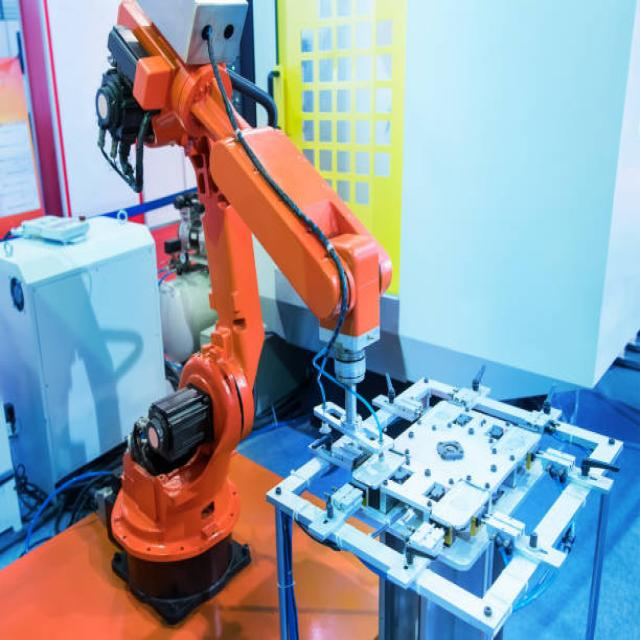Robotic-arm: (84, 0, 389, 640)
